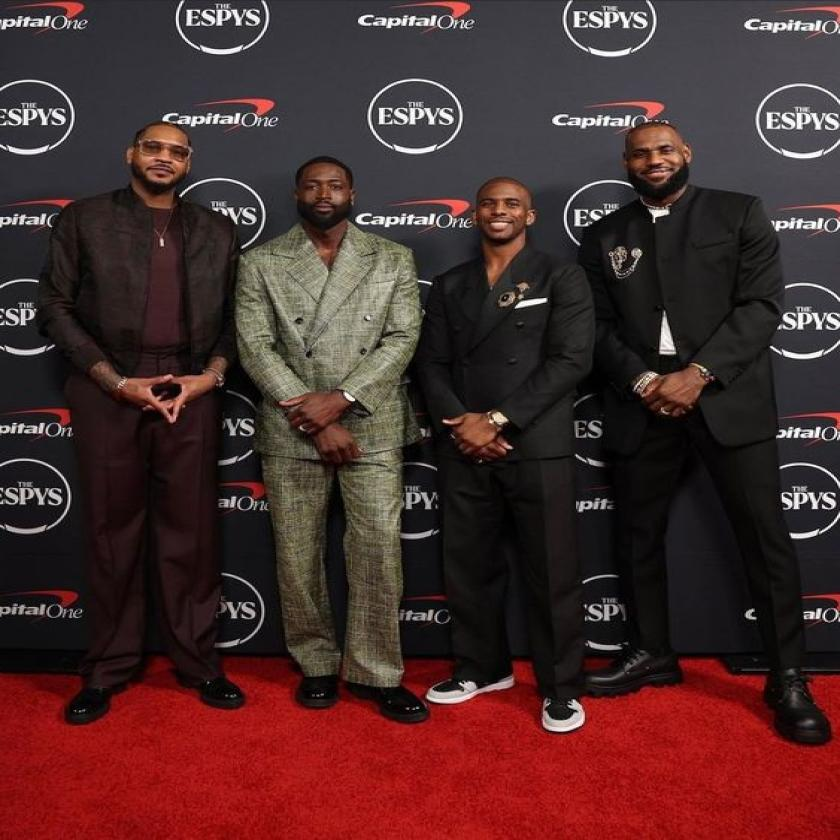Sin_casco: (619, 123, 697, 207), (127, 121, 198, 202), (294, 156, 358, 232), (472, 177, 532, 258)
